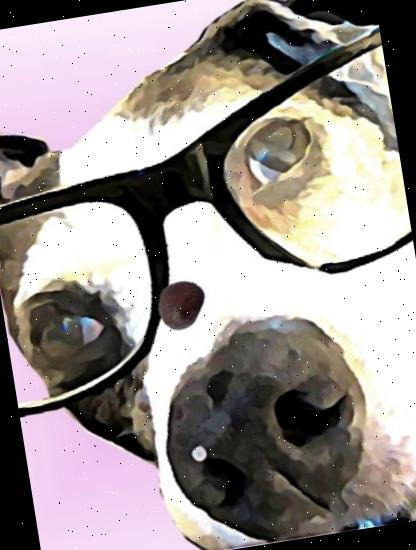Salak: (150, 276, 209, 334)
